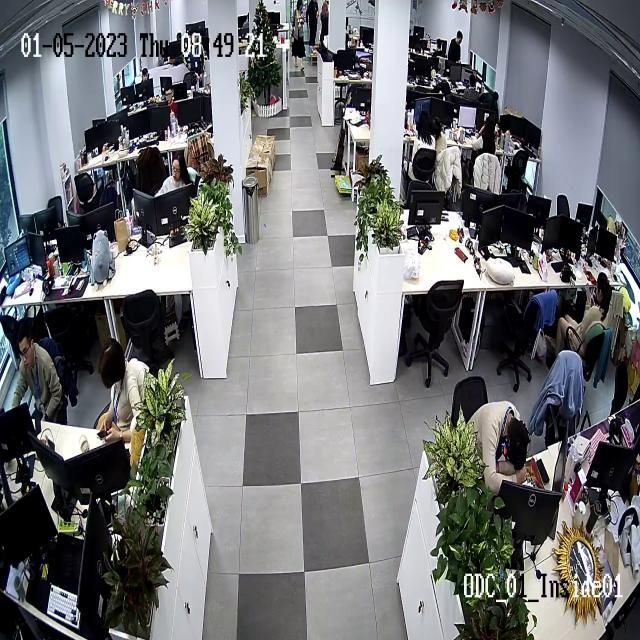person: (471, 401, 547, 499), (12, 320, 67, 426), (94, 340, 151, 440), (551, 273, 615, 360), (413, 110, 438, 180), (157, 153, 193, 197), (475, 116, 500, 166), (161, 85, 180, 121)
